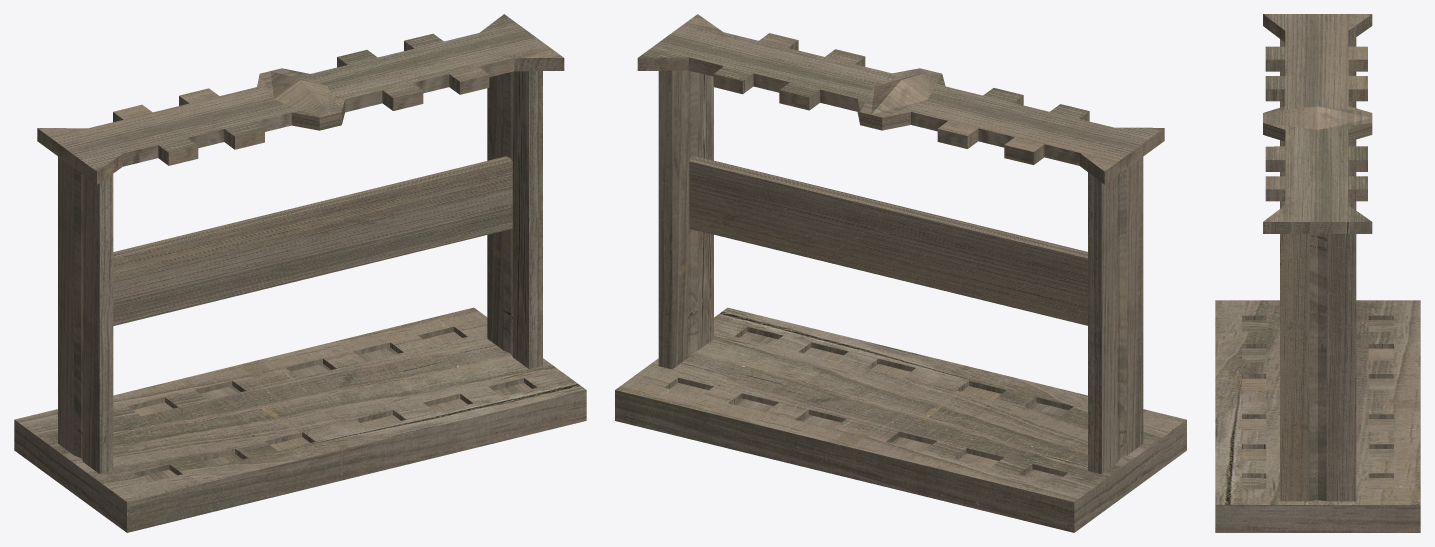
Rendered from weaponrack.dae.
3 renders of one model, left to right at view 1: azimuth 30°, elevation 25°; view 2: azimuth 150°, elevation 25°; view 3: azimuth 270°, elevation 25°, orthographic. The views are drawn at different scales.
Visible parts, largest first — view 1: Cube; view 2: Cube; view 3: Cube.
Part boxes in pixels (left/top/right/bottom): Cube: left=14, top=14, right=586, bottom=532; Cube: left=615, top=14, right=1186, bottom=532; Cube: left=1215, top=14, right=1420, bottom=532.
Bounding box in the file's own units: 10.16 × 4.25 × 7.4.
1 material, 1 textured.
